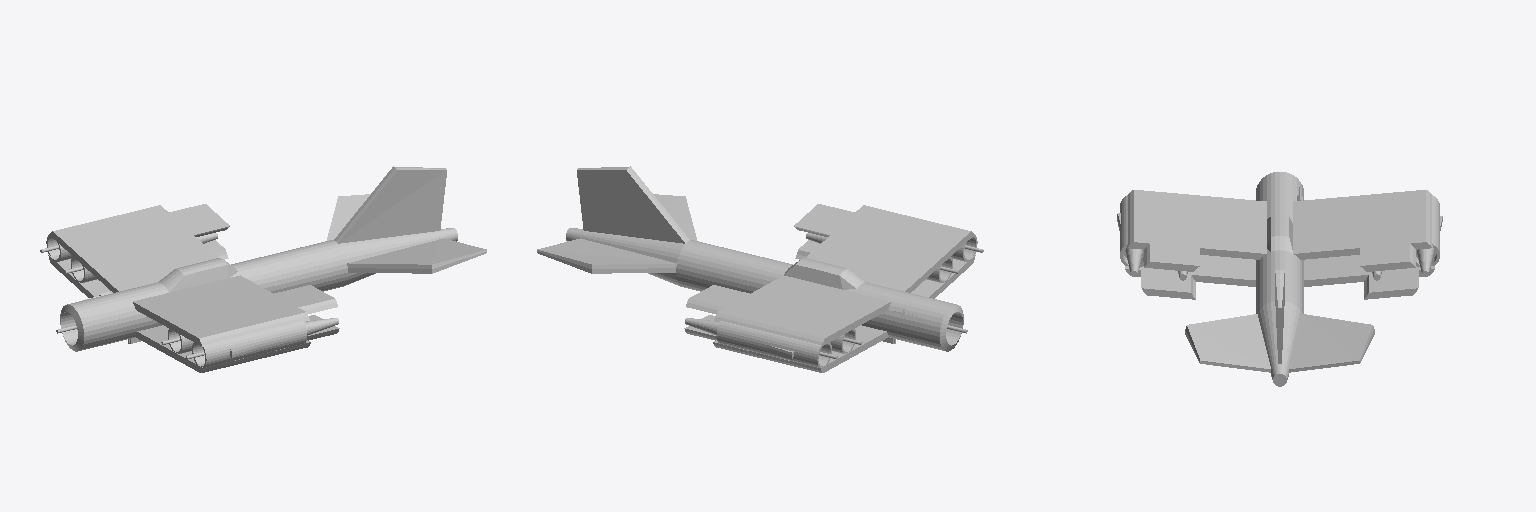
File: V01-Zankokou.obj
3 renders of one model, left to right at view 1: azimuth 30°, elevation 25°; view 2: azimuth 150°, elevation 25°; view 3: azimuth 270°, elevation 25°, orthographic.
Visible parts, largest first — view 1: Cylinder.001_Cylinder; view 2: Cylinder.001_Cylinder; view 3: Cylinder.001_Cylinder.
Boxes of the visible parts, box(x1,y1,x2,y2) form: Cylinder.001_Cylinder: box(40, 166, 486, 372); Cylinder.001_Cylinder: box(537, 166, 983, 372); Cylinder.001_Cylinder: box(1117, 172, 1442, 386).
Size of the model in its own units: 18.92 by 4.93 by 13.45.